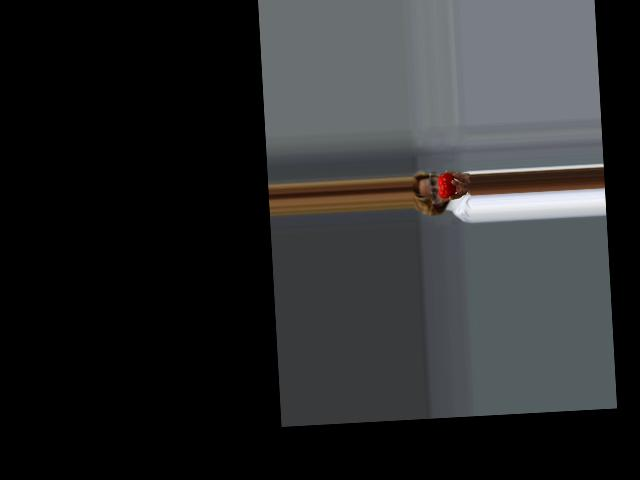tomato: (438, 173, 456, 199)
